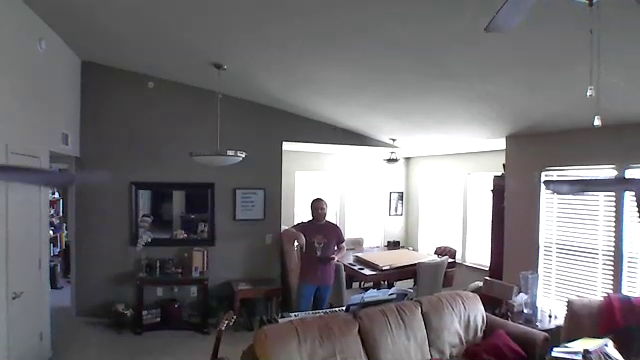down: (294, 232, 307, 252)
